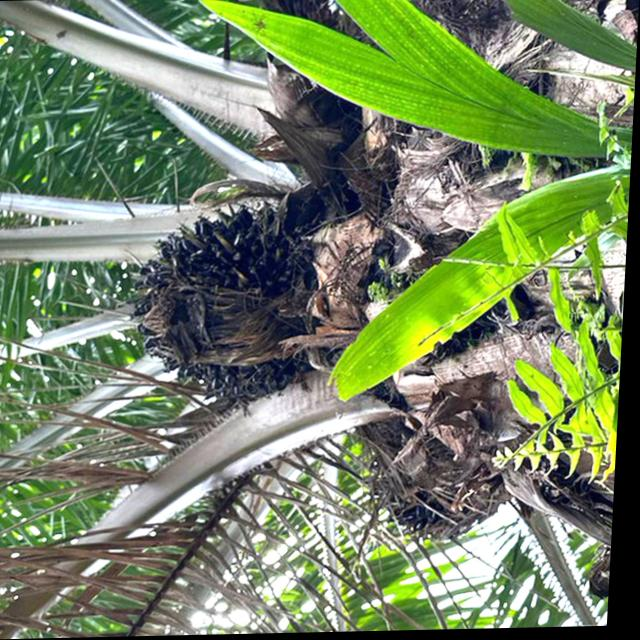unripe: (119, 187, 346, 411)
